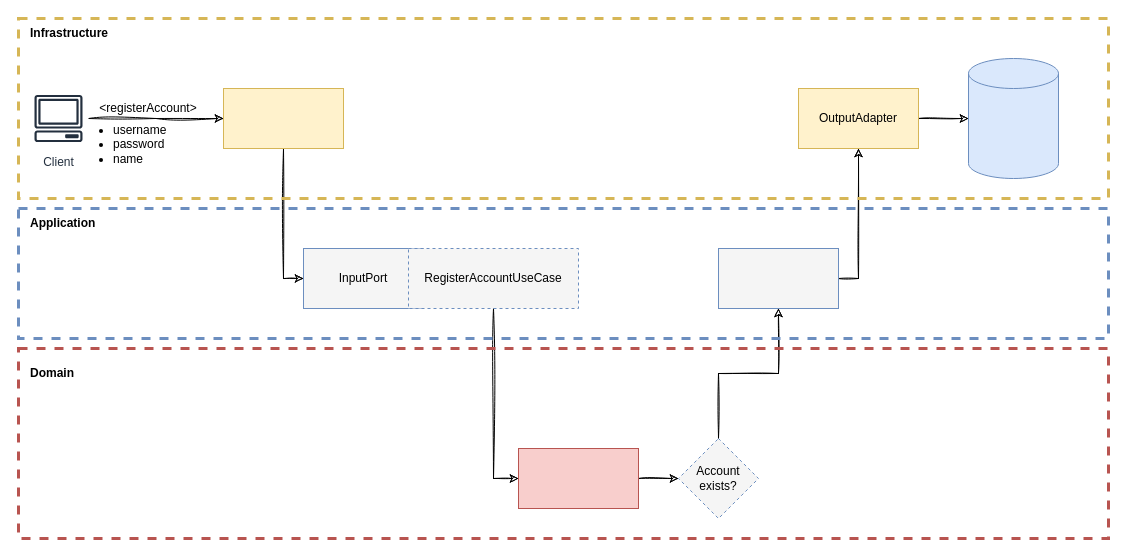
The diagram is 1127 pixels wide and 557 high, and some of its shapes have lost their labels. Here are the shapes that lost their labels. From the top down, the box of each, then its label:
(222, 88, 344, 148): InputAdapter
(718, 248, 838, 308): OutputPort
(518, 448, 638, 508): Account
